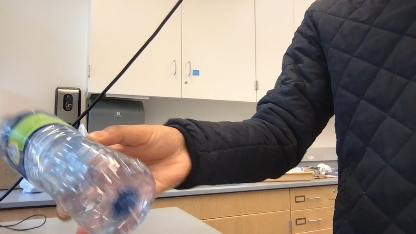Plastic Bottle: (1, 110, 153, 234)
